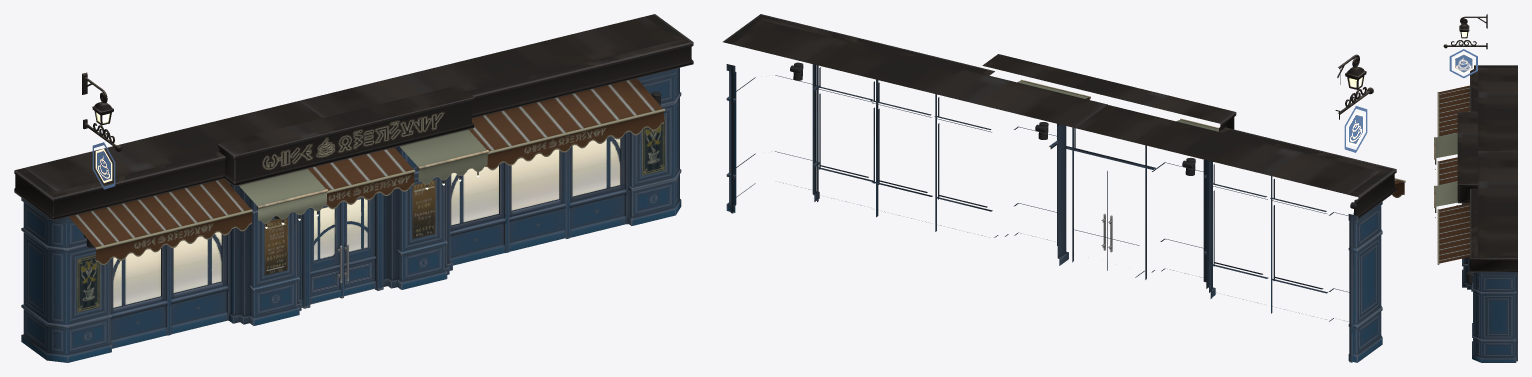
The model's file is t1_b_cafe_f.glb.
The picture shows the model from 3 angles, left to right: view 1: azimuth 30°, elevation 25°; view 2: azimuth 150°, elevation 25°; view 3: azimuth 270°, elevation 25°; orthographic projection. The views are drawn at different scales.
Visible parts, largest first — view 1: nomerge_t1_b_cafe_f_model_mesh; view 2: nomerge_t1_b_cafe_f_model_mesh; view 3: nomerge_t1_b_cafe_f_model_mesh.
Part boxes in pixels (x1,y1,x2,y2): nomerge_t1_b_cafe_f_model_mesh: (14,14,693,362); nomerge_t1_b_cafe_f_model_mesh: (723,14,1405,362); nomerge_t1_b_cafe_f_model_mesh: (1434,14,1517,362).
Bounding box in the file's own units: 19.79 × 8.13 × 3.62.
4 materials, 4 textured.
